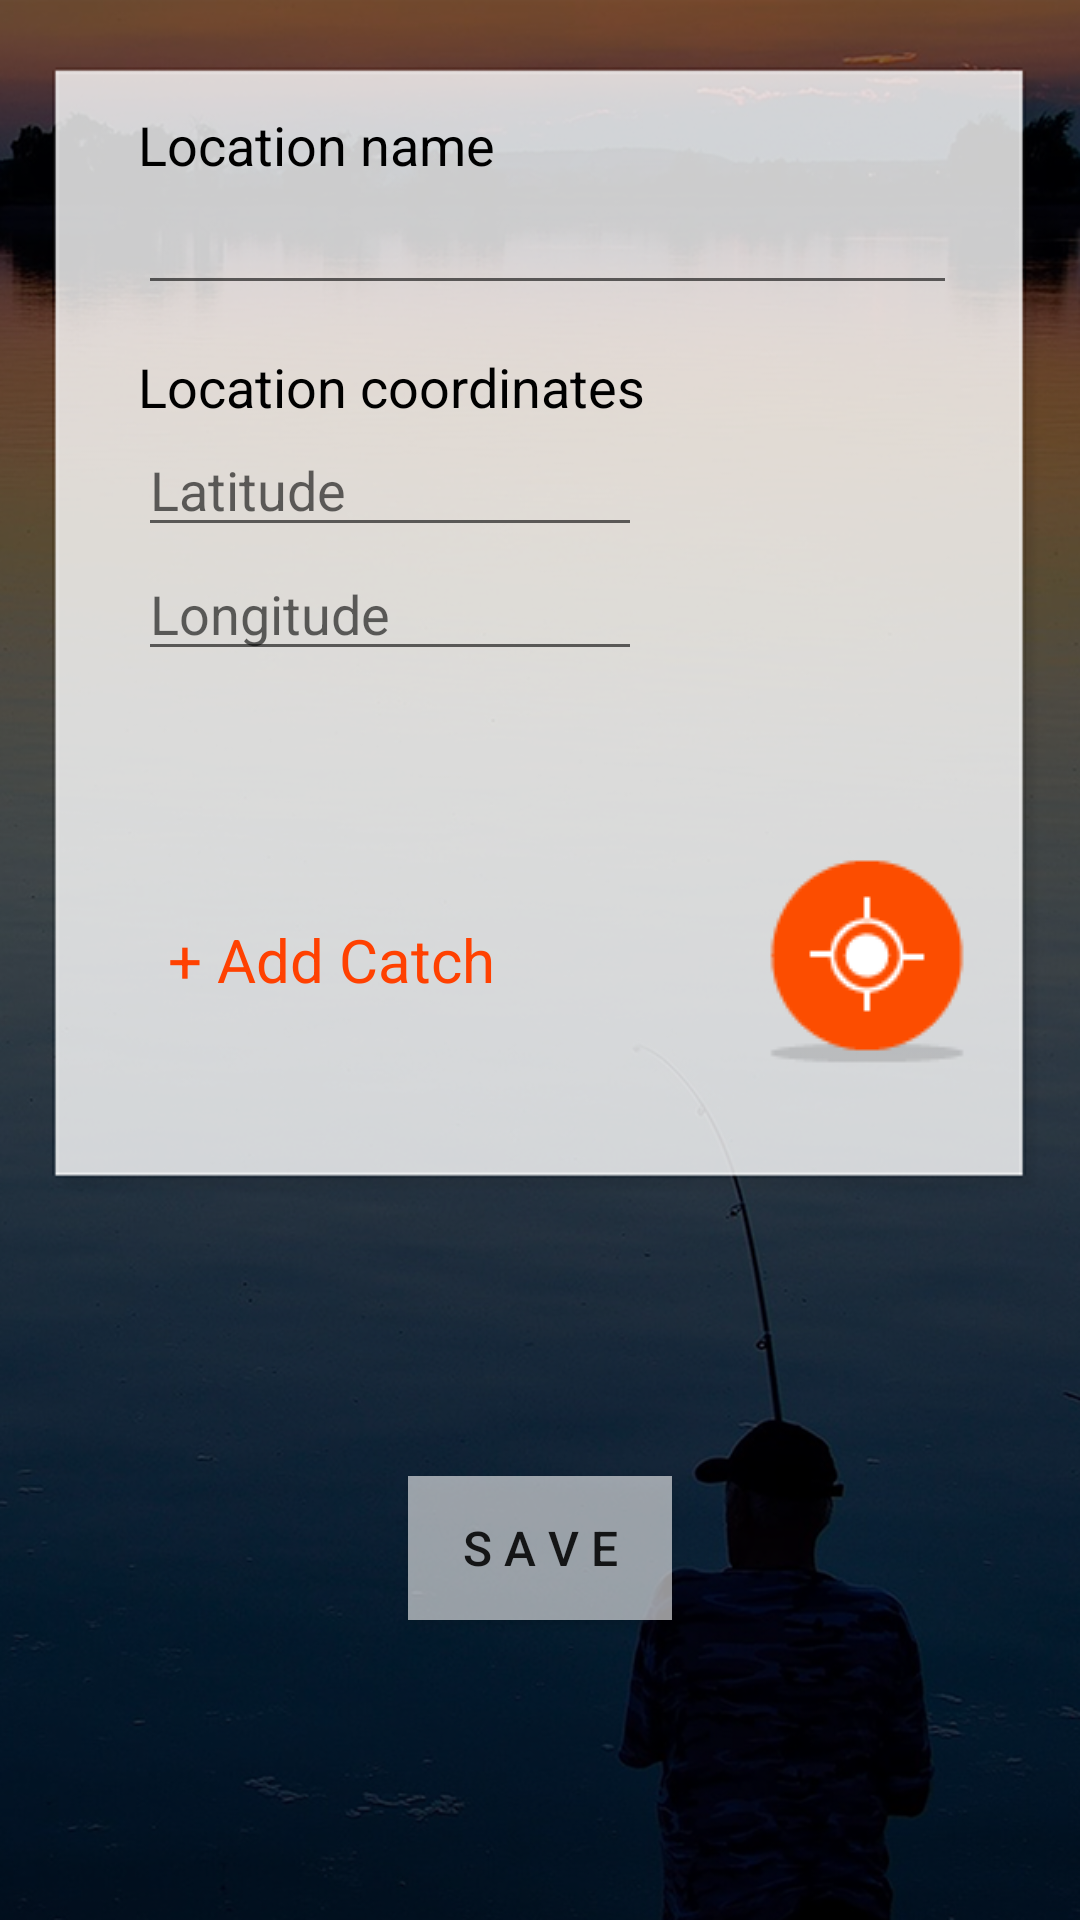

Named icons in this screenshot (1080 × 1920) and their centers, (x,y):
location: (867,960)
